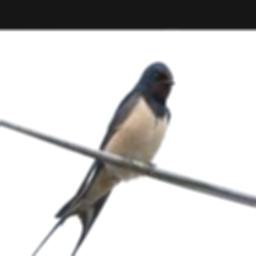Swallow: (19, 61, 175, 256)
